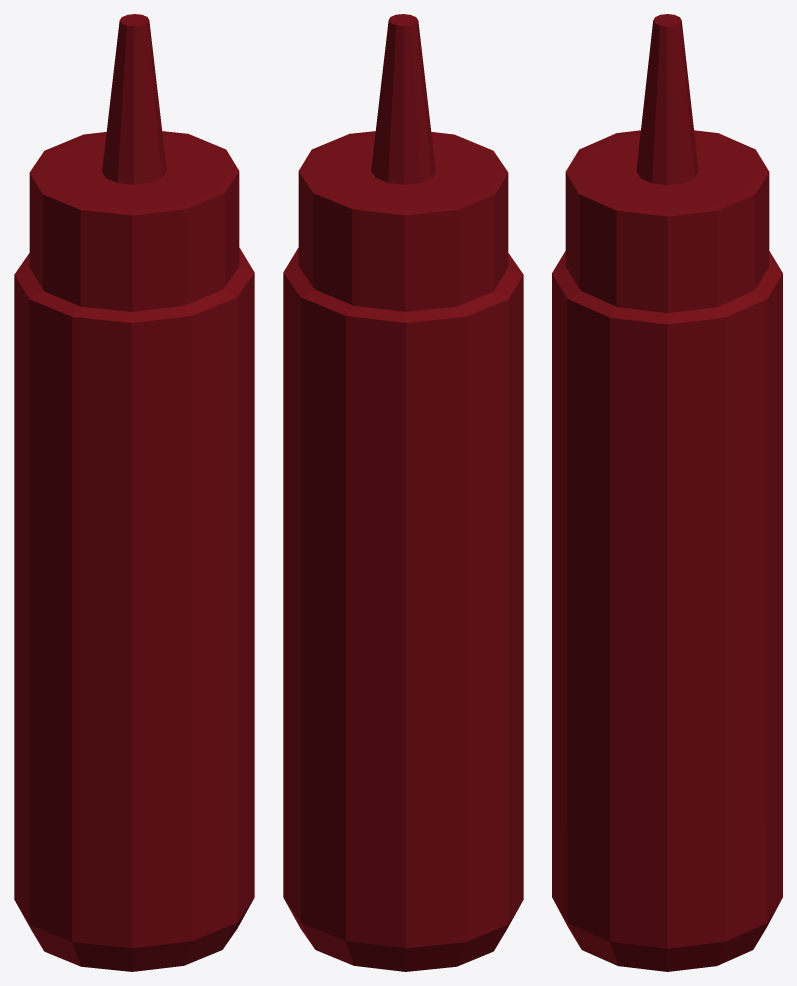
File: LudumDareKetchup 1.fbx
The picture shows the model from 3 angles, left to right: view 1: azimuth 30°, elevation 25°; view 2: azimuth 150°, elevation 25°; view 3: azimuth 270°, elevation 25°; orthographic projection.
Parts seen in each view (by area): view 1: Mustard; view 2: Mustard; view 3: Mustard.
Part boxes in pixels (x1,y1,x2,y2): Mustard: (14, 14, 254, 971); Mustard: (283, 14, 523, 971); Mustard: (552, 14, 782, 971).
Size of the model in its own units: 5.95 by 24.57 by 5.67.
